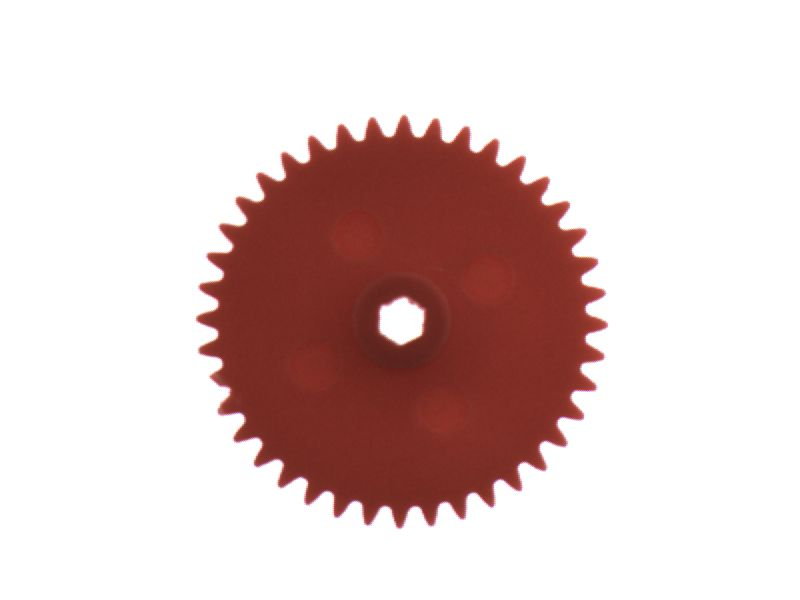defect_break: (186, 359, 247, 398)
